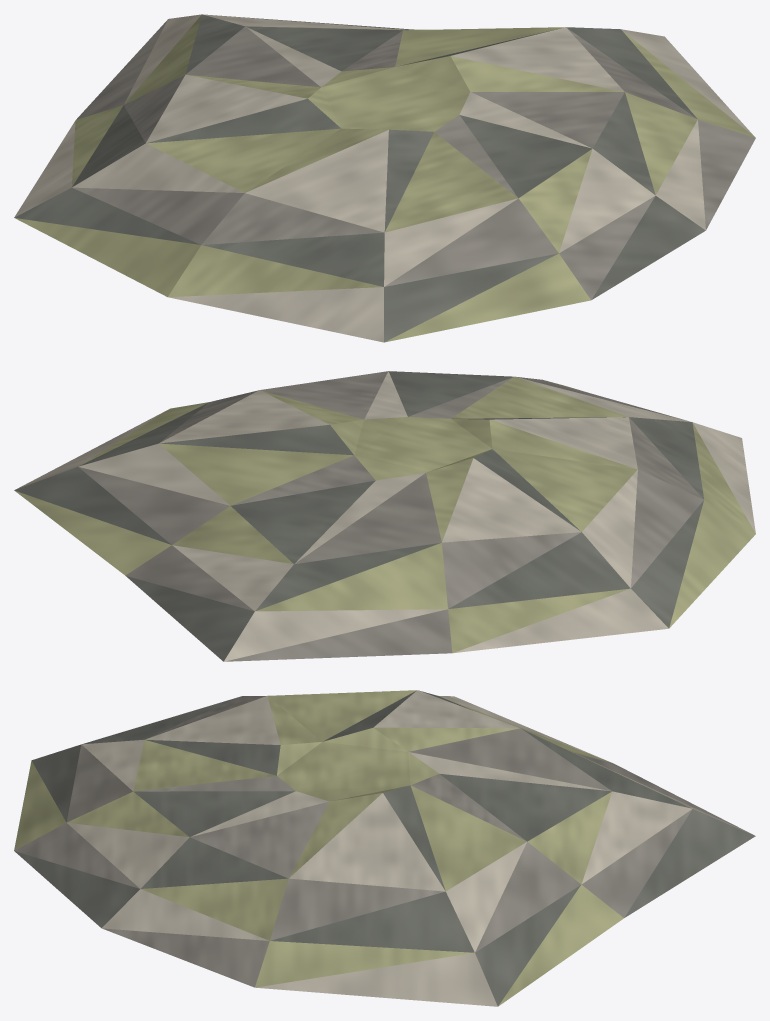
File: rock_slab_flat_02.fbx
3 renders of one model, top to bottom at view 1: azimuth 30°, elevation 25°; view 2: azimuth 150°, elevation 25°; view 3: azimuth 270°, elevation 25°, orthographic. The views are drawn at different scales.
Parts seen in each view (by area): view 1: rock_slab_flat_02; view 2: rock_slab_flat_02; view 3: rock_slab_flat_02.
Boxes of the visible parts, bbox=[...] form: rock_slab_flat_02: bbox=[14, 14, 755, 342]; rock_slab_flat_02: bbox=[14, 371, 755, 661]; rock_slab_flat_02: bbox=[14, 690, 755, 1006].
Size of the model in its own units: 297 by 49.25 by 300.
Materials: 1 (1 with a texture image).
